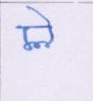o_matra: (42, 11, 55, 49)
